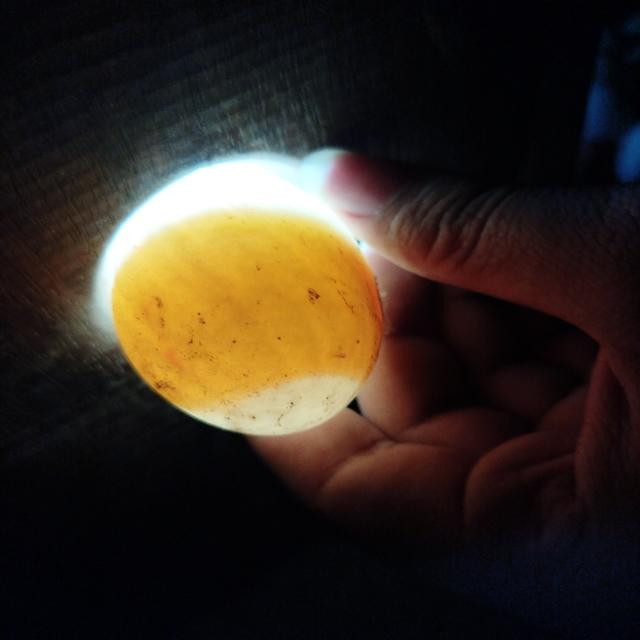Camara de Ar: (205, 374, 364, 435)
